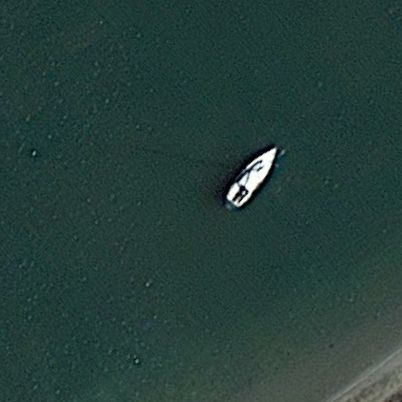boat: (224, 146, 280, 217)
